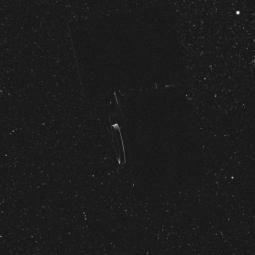proba_3_csc: (64, 20, 220, 200)
